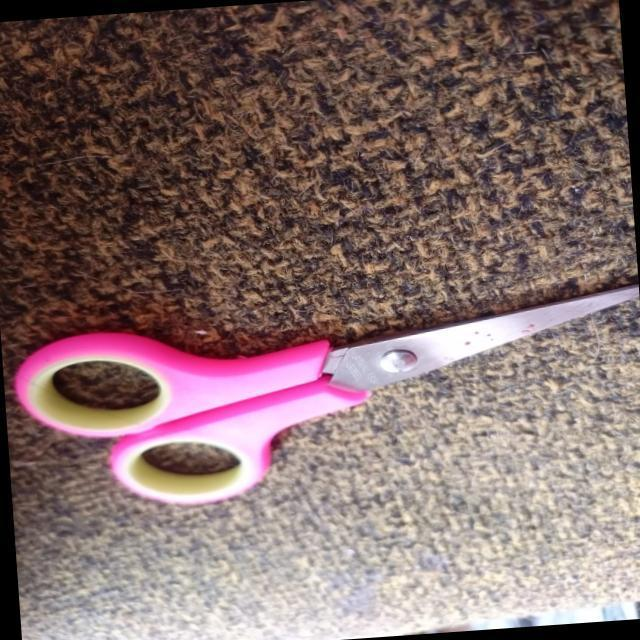scissors: (0, 266, 640, 543)
